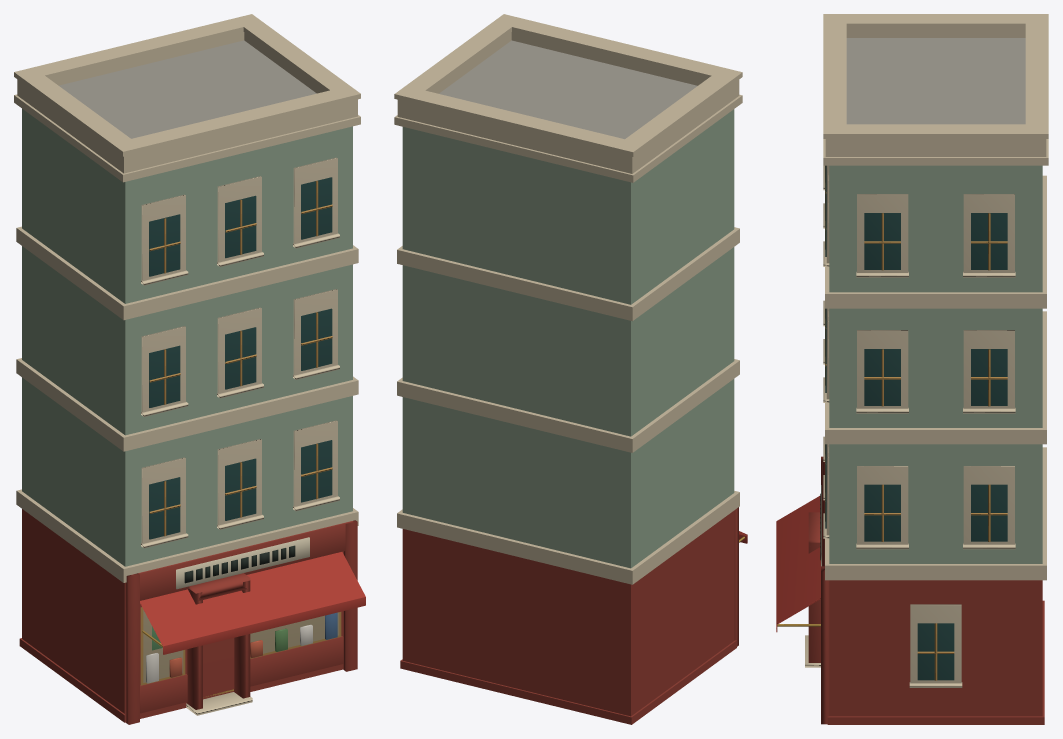
File: city_sage_4.glb
3 views of the same model, side by side, from view 1: azimuth 30°, elevation 25°; view 2: azimuth 150°, elevation 25°; view 3: azimuth 270°, elevation 25° (orthographic). The views are drawn at different scales.
Visible parts, largest first — view 1: city_sage_4; view 2: city_sage_4; view 3: city_sage_4.
Part boxes in pixels (bbox=[...]): city_sage_4: bbox=[14, 14, 365, 724]; city_sage_4: bbox=[394, 14, 747, 724]; city_sage_4: bbox=[776, 14, 1048, 724].
Size of the model in its own units: 4.64 by 10.69 by 4.46.
